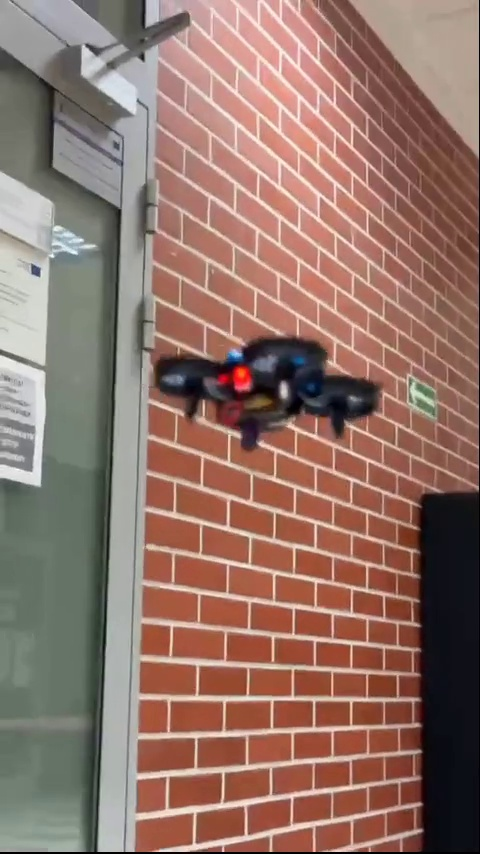drone: (156, 337, 373, 449)
